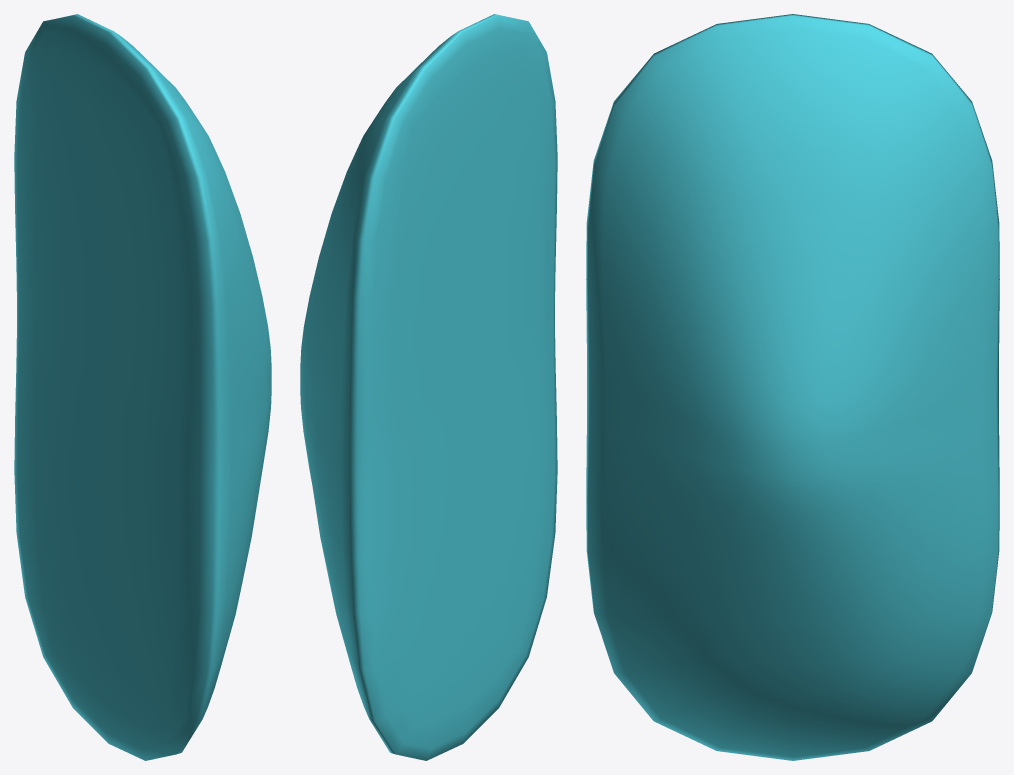
Rendered from Piedras_azul.fbx.
3 renders of one model, left to right at view 1: azimuth 30°, elevation 25°; view 2: azimuth 150°, elevation 25°; view 3: azimuth 270°, elevation 25°, orthographic. The views are drawn at different scales.
Visible parts, largest first — view 1: PIedra_azul; view 2: PIedra_azul; view 3: PIedra_azul.
Part boxes in pixels (left/top/right/bottom): PIedra_azul: left=14, top=14, right=271, bottom=760; PIedra_azul: left=300, top=14, right=557, bottom=760; PIedra_azul: left=586, top=14, right=999, bottom=760.
Size of the model in its own units: 56.48 by 246 by 124.
